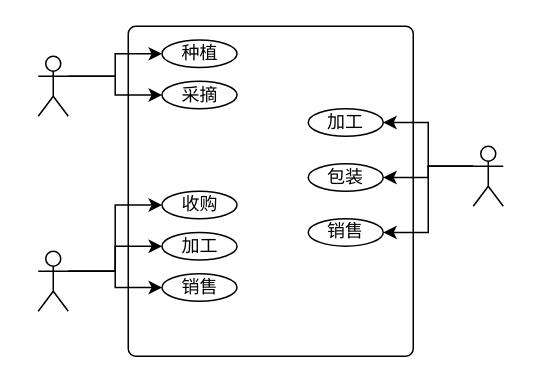
The diagram is 549 pixels wide and 383 high, and some of its shapes have lost their labels. The shapes that lost their labels are listed below. From the top down, each one's centre as x and y in pixels, then its label:
At [52,85]: "茶农".
At [487,175]: "企业员工".
At [52,280]: "合作社".
